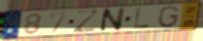7: (48, 11, 68, 35)
8: (23, 12, 43, 35)
G: (156, 5, 180, 29)
L: (133, 8, 152, 30)
N: (98, 7, 127, 33)
Z: (72, 9, 102, 34)
